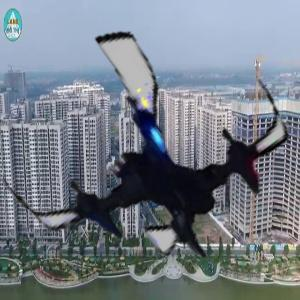drone: (3, 6, 290, 293)
